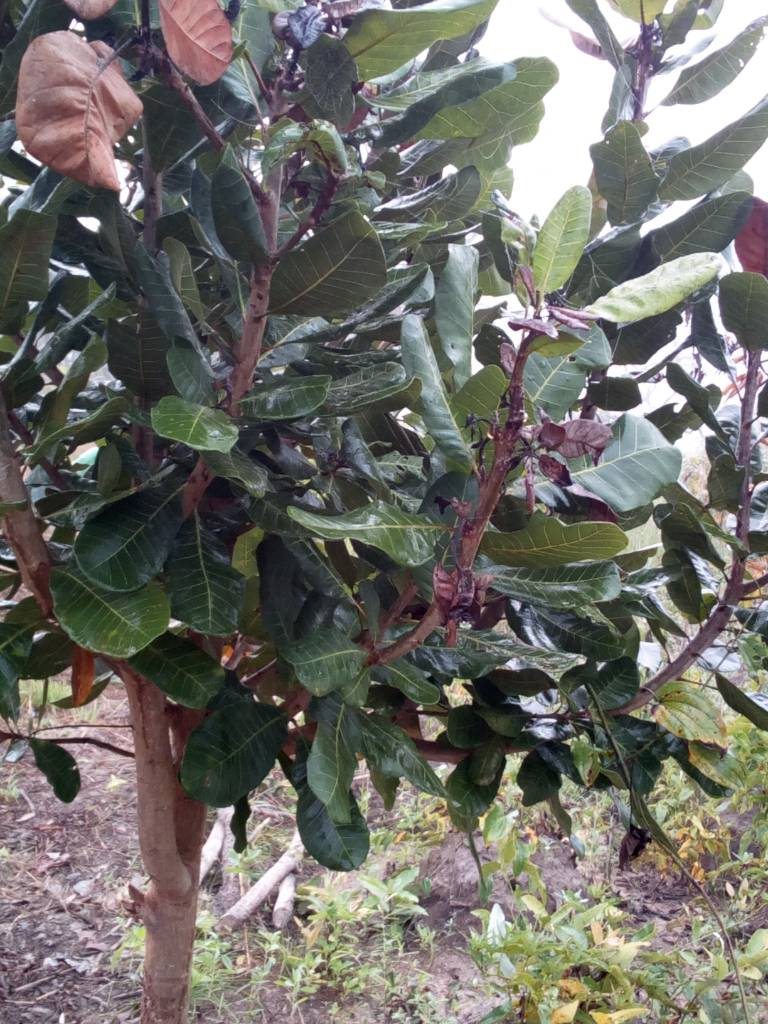Die-black: (493, 270, 615, 351), (518, 411, 613, 493), (409, 552, 501, 630), (265, 5, 352, 58)
